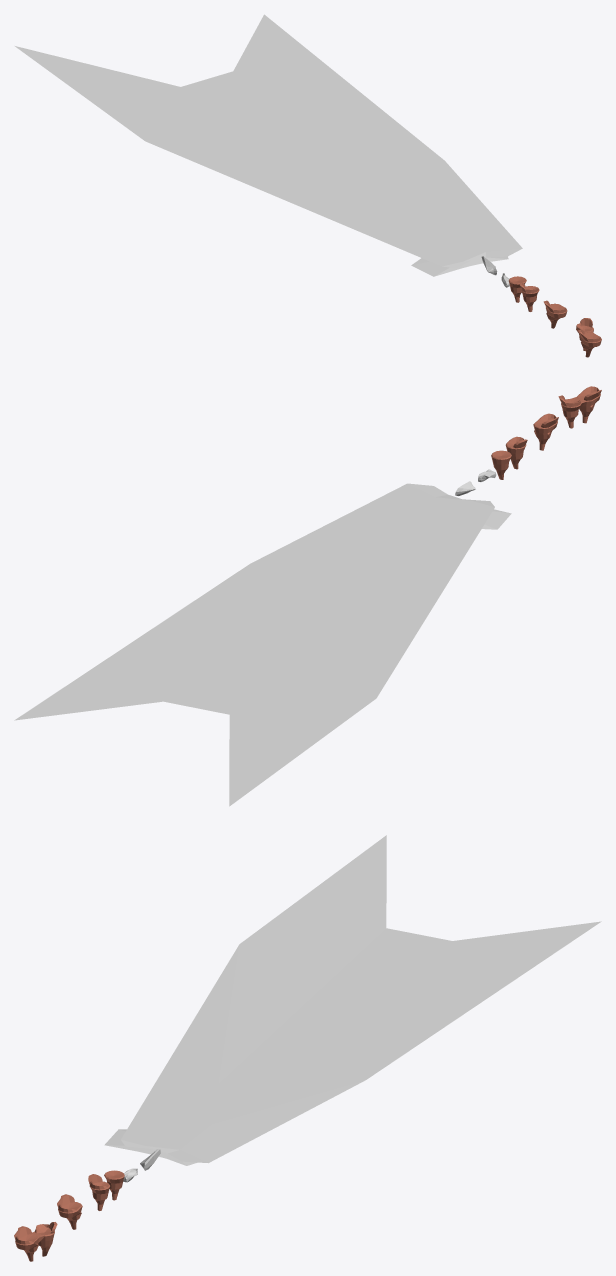
File: Grounds.fbx
The picture shows the model from 3 angles, top to bottom: view 1: azimuth 30°, elevation 25°; view 2: azimuth 150°, elevation 25°; view 3: azimuth 330°, elevation 25°; orthographic projection. The views are drawn at different scales.
Parts seen in each view (by area): view 1: Rock1.005, TwinIslands; view 2: Rock1.005, TwinIslands; view 3: Rock1.005, TwinIslands, Island.
Boxes of the visible parts, x1,y1,x2,y2 form: Rock1.005: (15,14,522,276); TwinIslands: (576,318,601,357); Rock1.005: (14,483,511,806); TwinIslands: (558,386,601,428); Rock1.005: (104,835,601,1165); TwinIslands: (14,1222,57,1261); Island: (57,1194,82,1229).
Bounding box in the file's own units: 222234 × 29521 × 792663.
